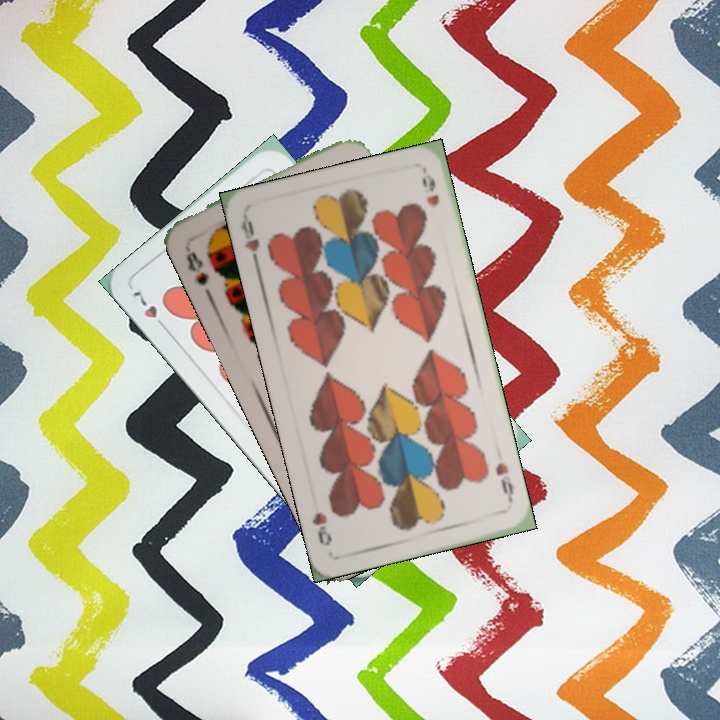H7: (125, 285, 171, 334)
H9: (236, 213, 262, 271), (491, 458, 518, 508)
S8: (180, 239, 211, 288)
